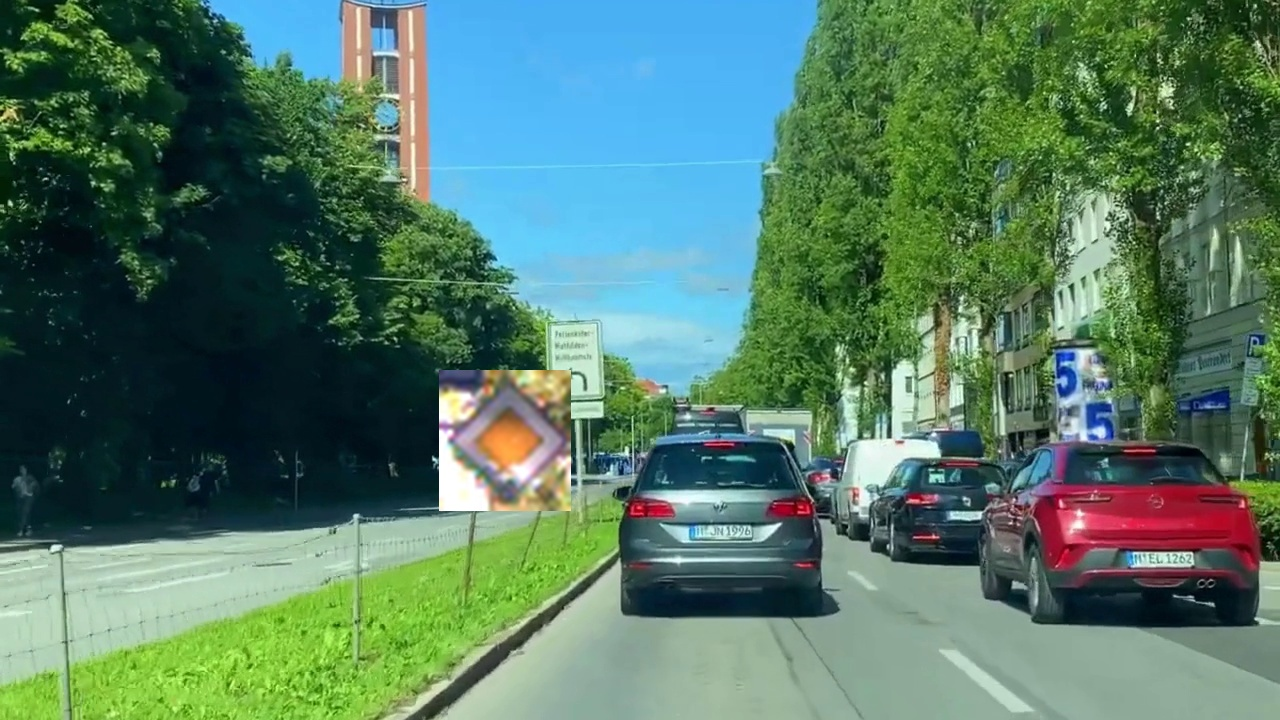Priority road: (439, 370, 571, 511)
